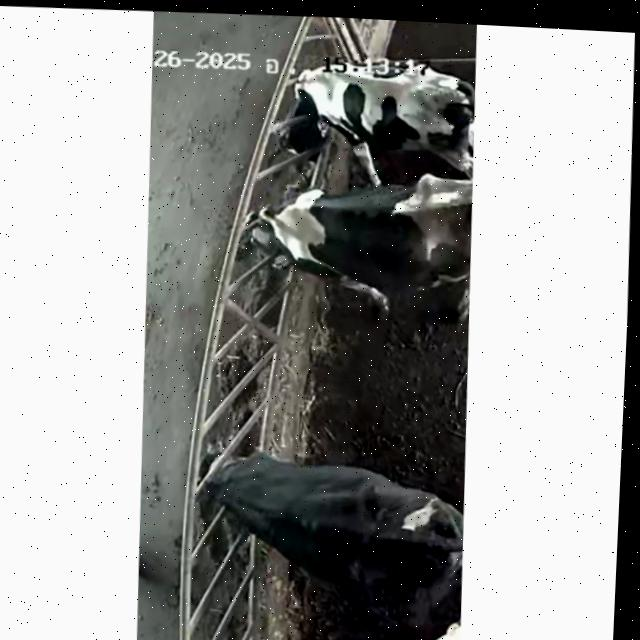eat: (183, 175, 380, 303), (141, 430, 320, 553), (231, 56, 389, 173)
